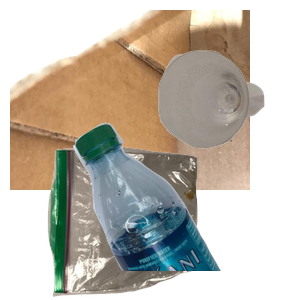cardboard: (10, 10, 250, 190)
glass: (156, 48, 300, 189)
plastic: (71, 120, 300, 300)
trash: (45, 144, 235, 300)
